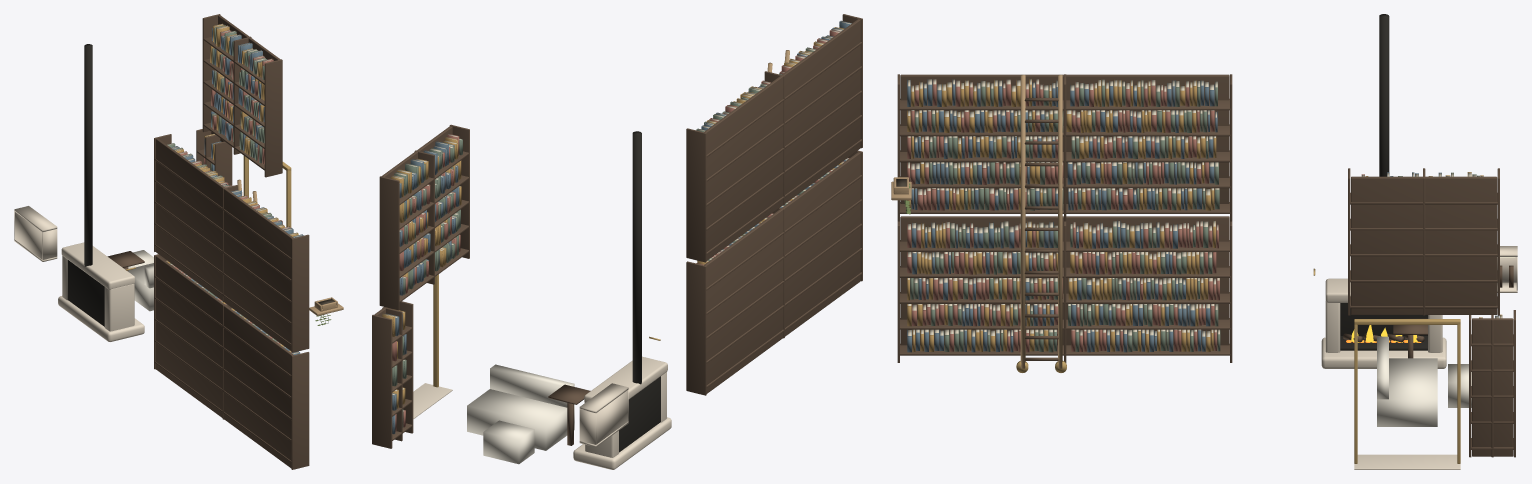
The model's file is room-library.glb.
3 renders of one model, left to right at view 1: azimuth 30°, elevation 25°; view 2: azimuth 150°, elevation 25°; view 3: azimuth 270°, elevation 25°, orthographic. The views are drawn at different scales.
Parts seen in each view (by area): view 1: library__honey ash, library_refined_hearth__honed travertine, library_refined_hearth__library hearth blackened steel, library__library slate cloth, library_whiskey_niche__honed travertine, library__library olive cloth, library__library ochre cloth, library__library clay cloth, library_patio_book_bay__honey ash, library__library warm paper edges, library_placeholder_study-whiskey-lounge, library_patio_frame__brushed brass (+2 smaller); view 2: library__honey ash, library_placeholder_study-whiskey-lounge, library_patio_book_bay__honey ash, library_refined_hearth__library hearth blackened steel, library_refined_hearth__honed travertine, library_whiskey_niche__honed travertine, library__library olive cloth, library__library slate cloth, library__library ochre cloth, library__library clay cloth, library_placeholder_study-whiskey-ottoman, library__library warm paper edges (+3 smaller); view 3: library__honey ash, library__library clay cloth, library__library slate cloth, library__library ochre cloth, library__library olive cloth, library__library warm paper edges, library_patio_book_bay__honey ash, library_placeholder_study-whiskey-lounge, library_refined_hearth__library hearth blackened steel, library_refined_hearth__honed travertine, library_ladder__pale oak, library_ladder__honey ash (+4 smaller).
Part boxes in pixels (left/top/right/bottom): library__honey ash: left=154, top=14, right=309, bottom=469; library_refined_hearth__honed travertine: left=58, top=242, right=144, bottom=341; library_refined_hearth__library hearth blackened steel: left=67, top=44, right=104, bottom=326; library__library slate cloth: left=171, top=28, right=303, bottom=354; library_whiskey_niche__honed travertine: left=14, top=206, right=57, bottom=261; library__library olive cloth: left=167, top=25, right=276, bottom=341; library__library ochre cloth: left=166, top=23, right=298, bottom=352; library__library clay cloth: left=171, top=30, right=291, bottom=352; library_patio_book_bay__honey ash: left=196, top=129, right=232, bottom=185; library__library warm paper edges: left=166, top=24, right=301, bottom=354; library_placeholder_study-whiskey-lounge: left=128, top=263, right=153, bottom=311; library_patio_frame__brushed brass: left=243, top=156, right=291, bottom=227; library__honey ash: left=379, top=14, right=862, bottom=395; library_placeholder_study-whiskey-lounge: left=467, top=364, right=574, bottom=450; library_patio_book_bay__honey ash: left=372, top=301, right=413, bottom=448; library_refined_hearth__library hearth blackened steel: left=619, top=131, right=660, bottom=452; library_refined_hearth__honed travertine: left=573, top=356, right=671, bottom=469; library_whiskey_niche__honed travertine: left=579, top=383, right=628, bottom=446; library__library olive cloth: left=394, top=47, right=829, bottom=294; library__library slate cloth: left=399, top=20, right=851, bottom=295; library__library ochre cloth: left=391, top=27, right=844, bottom=289; library__library clay cloth: left=399, top=29, right=849, bottom=293; library_placeholder_study-whiskey-ottoman: left=483, top=420, right=534, bottom=464; library__library warm paper edges: left=392, top=21, right=851, bottom=278; library__honey ash: left=897, top=74, right=1499, bottom=362; library__library clay cloth: left=907, top=79, right=1364, bottom=352; library__library slate cloth: left=907, top=79, right=1441, bottom=352; library__library ochre cloth: left=907, top=78, right=1483, bottom=352; library__library olive cloth: left=910, top=79, right=1479, bottom=352; library__library warm paper edges: left=908, top=79, right=1483, bottom=336; library_patio_book_bay__honey ash: left=1469, top=310, right=1515, bottom=457; library_placeholder_study-whiskey-lounge: left=1377, top=336, right=1437, bottom=426; library_refined_hearth__library hearth blackened steel: left=1340, top=14, right=1427, bottom=350; library_refined_hearth__honed travertine: left=1321, top=278, right=1446, bottom=368; library_ladder__pale oak: left=1020, top=74, right=1062, bottom=368; library_ladder__honey ash: left=1024, top=98, right=1058, bottom=360.
Size of the model in its own units: 4.58 by 5.59 by 9.42.
